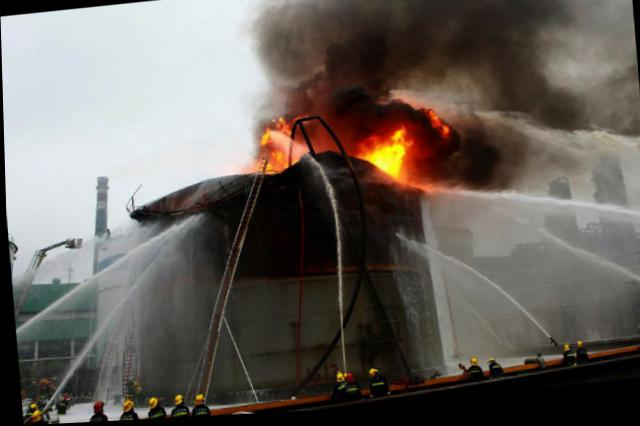fire: (355, 137, 405, 181), (264, 148, 284, 176), (274, 118, 289, 140), (255, 130, 267, 144)
